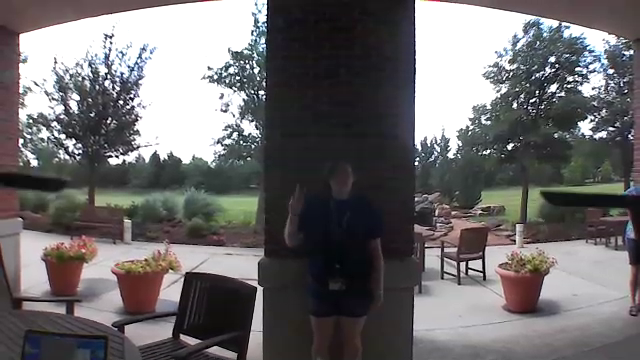peace: (281, 177, 314, 224)
